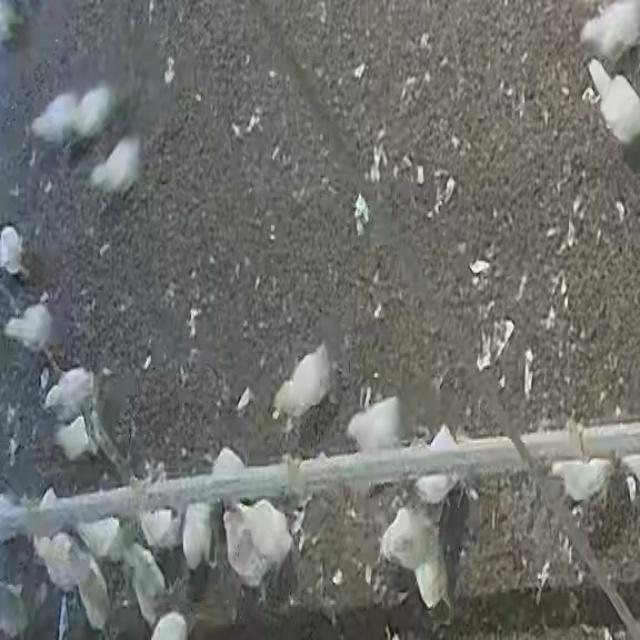chicken: (384, 511, 451, 602), (273, 344, 333, 421), (586, 61, 640, 146), (237, 503, 304, 568), (557, 423, 606, 506), (415, 425, 465, 503), (70, 550, 116, 632), (34, 531, 91, 593), (343, 400, 403, 458), (127, 537, 167, 623), (228, 505, 268, 590), (580, 0, 640, 56), (42, 365, 97, 422), (88, 136, 141, 193), (74, 85, 125, 143), (183, 495, 218, 574), (3, 302, 55, 351), (31, 99, 75, 152), (52, 412, 94, 462), (76, 514, 121, 559), (0, 580, 30, 636), (145, 506, 183, 550), (210, 446, 248, 483), (0, 224, 26, 276), (0, 0, 28, 45), (150, 613, 190, 640)
